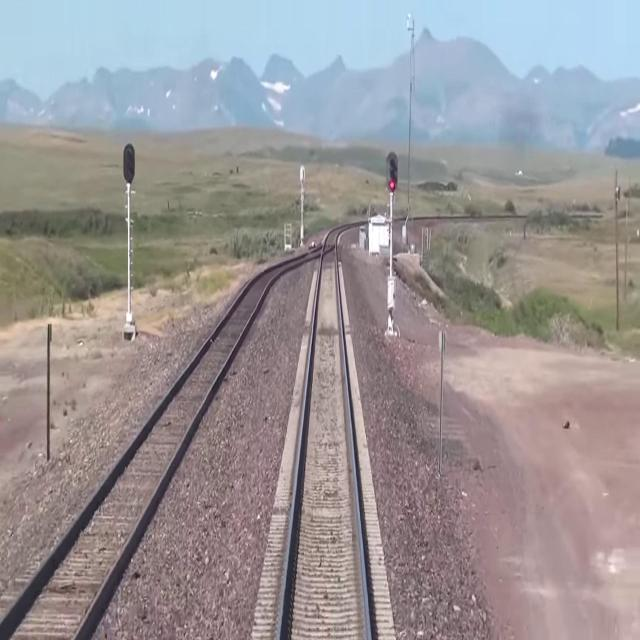rail-track: (0, 245, 321, 639), (279, 229, 367, 639)
